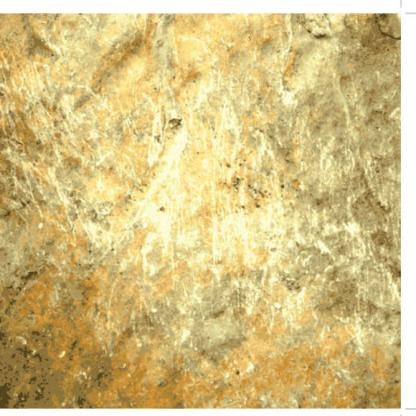Sedimentary_Sandstone: (1, 18, 398, 404)
